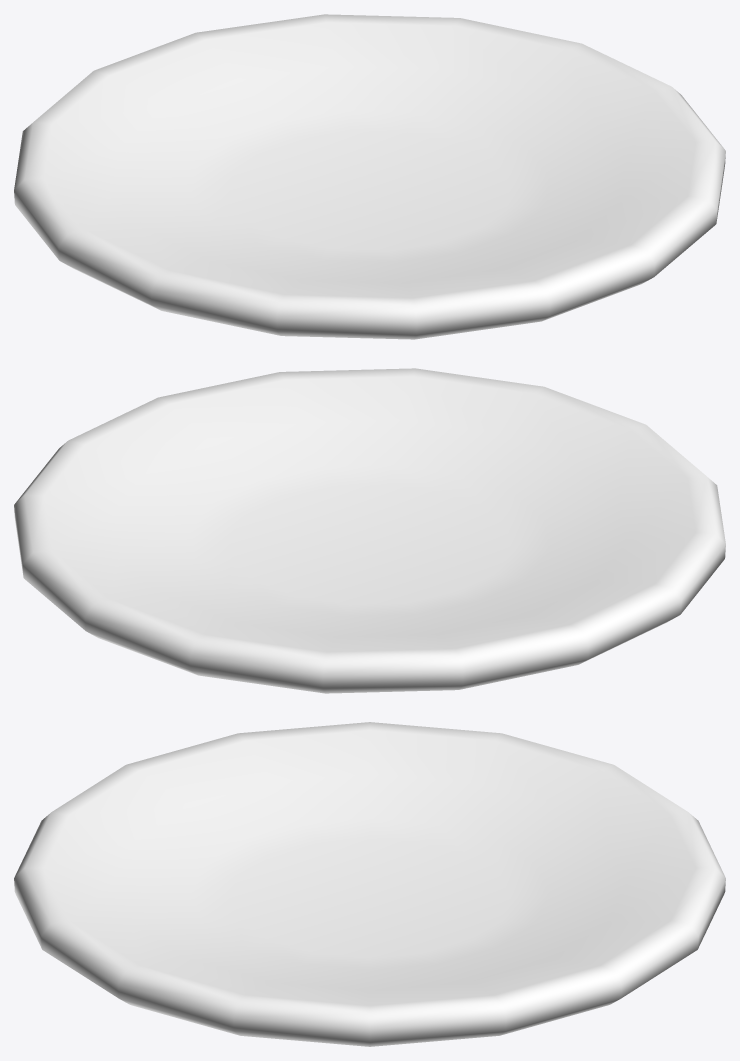
Rendered from SM_cake_plate.glb.
3 views of the same model, one above another, from view 1: azimuth 30°, elevation 25°; view 2: azimuth 150°, elevation 25°; view 3: azimuth 270°, elevation 25° (orthographic).
Visible parts, largest first — view 1: SM_cake_plate; view 2: SM_cake_plate; view 3: SM_cake_plate.
Part boxes in pixels (box(x1,y1,x2,y2)): SM_cake_plate: box(14, 14, 725, 339); SM_cake_plate: box(14, 368, 725, 693); SM_cake_plate: box(14, 722, 725, 1046).
Bounding box in the file's own units: 0.4262 × 0.0456 × 0.4262.
1 material, 1 textured.
